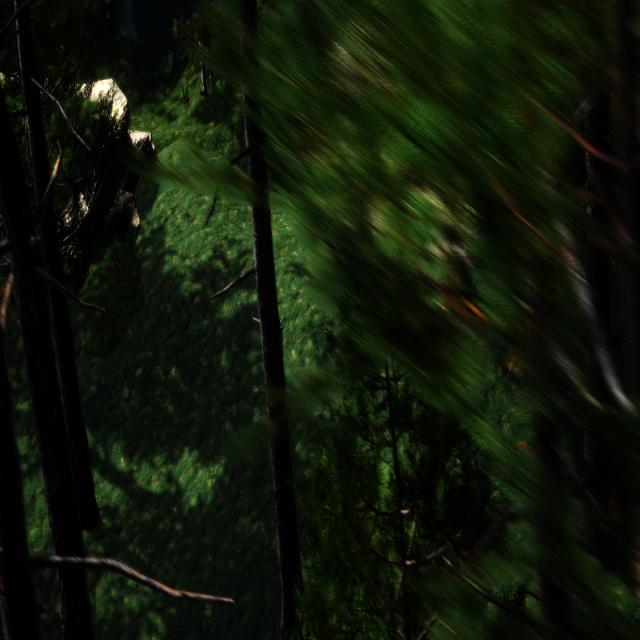Human: (194, 0, 218, 103)
